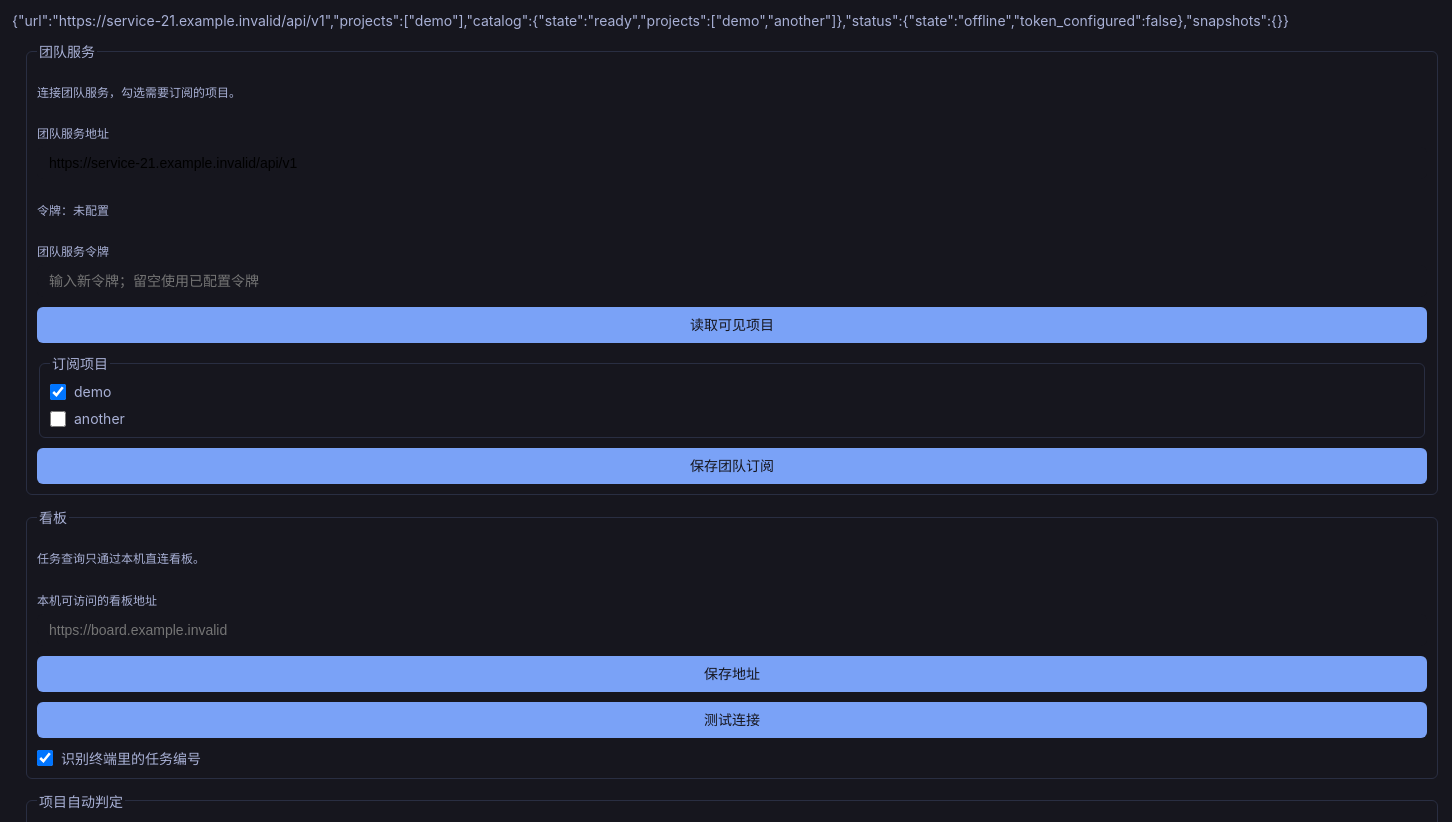
Scenario: does not treat project lookup failure 401 as an empty project list
Replace the text in the field labelled "团队服务地址" with "https://candidate.example.invalid" at (732, 163), box left=37, top=147, right=1427, bottom=179
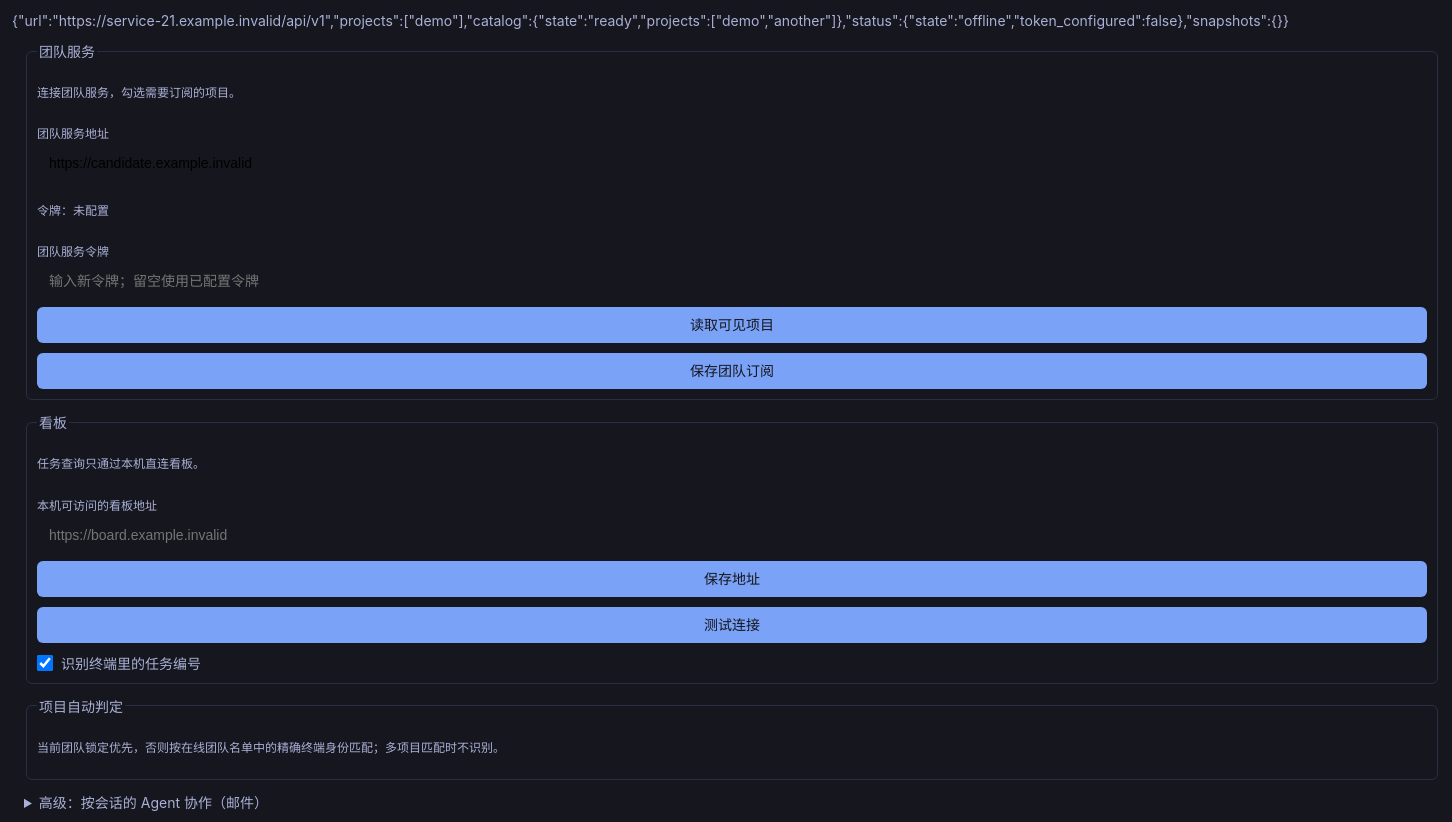
Type "candidate-secret" into the password field labelled "团队服务令牌" at (732, 281), box left=37, top=265, right=1427, bottom=297
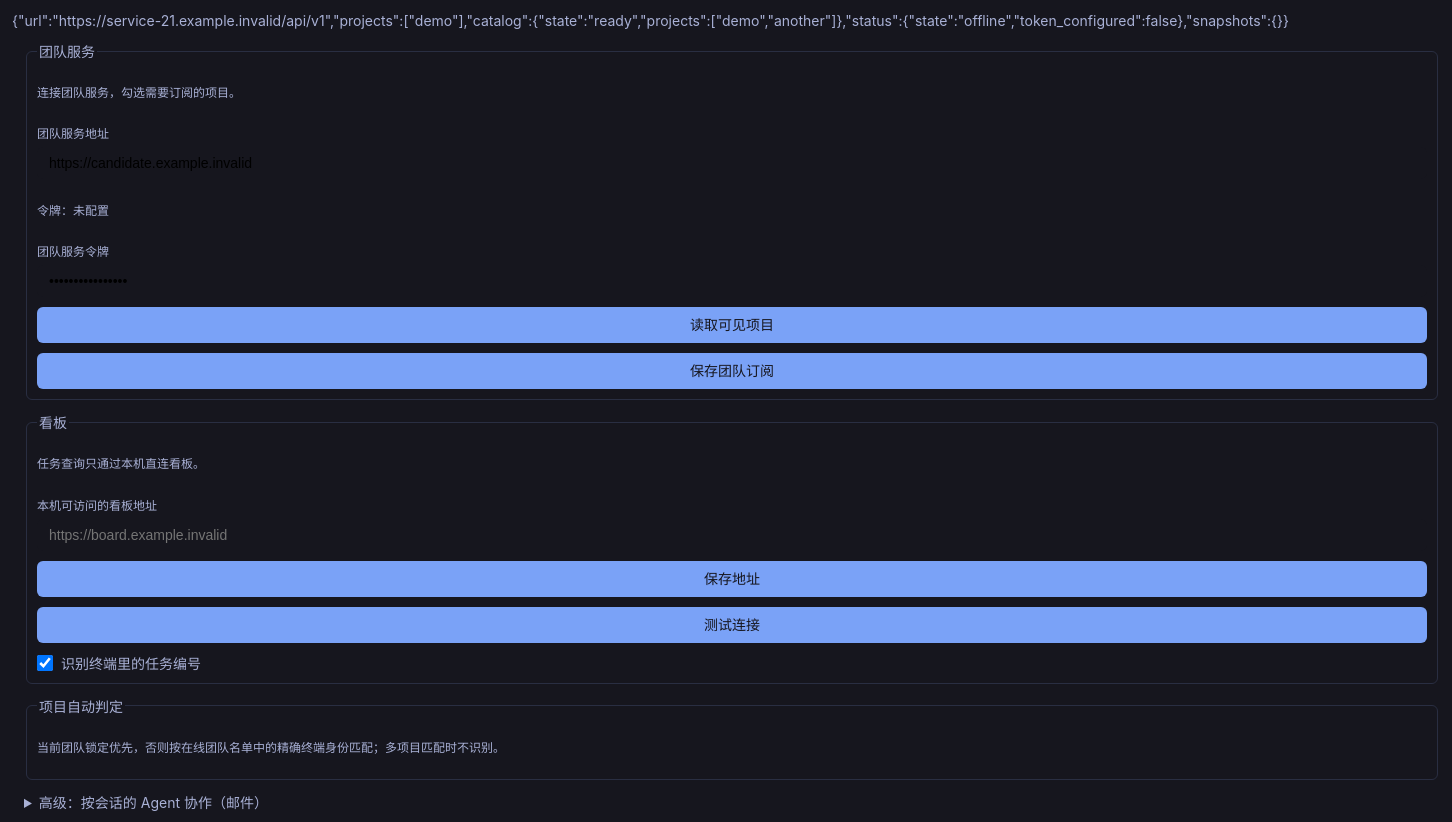
Click the button "读取可见项目" at (732, 325), box left=37, top=307, right=1427, bottom=343
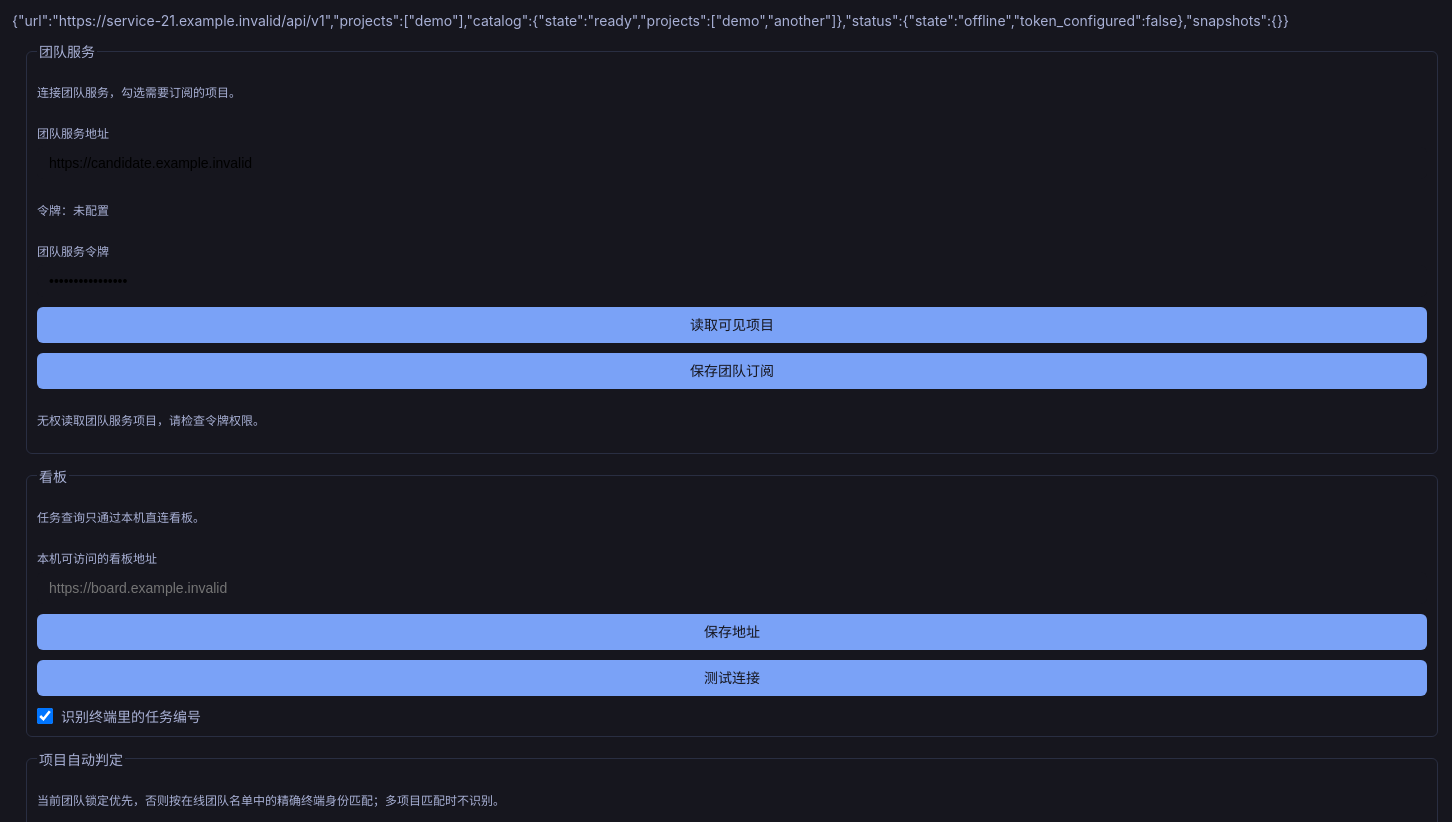
Expected: the text "无权读取团队服务项目，请检查令牌权限。" is shown, left=37, top=413, right=265, bottom=428
